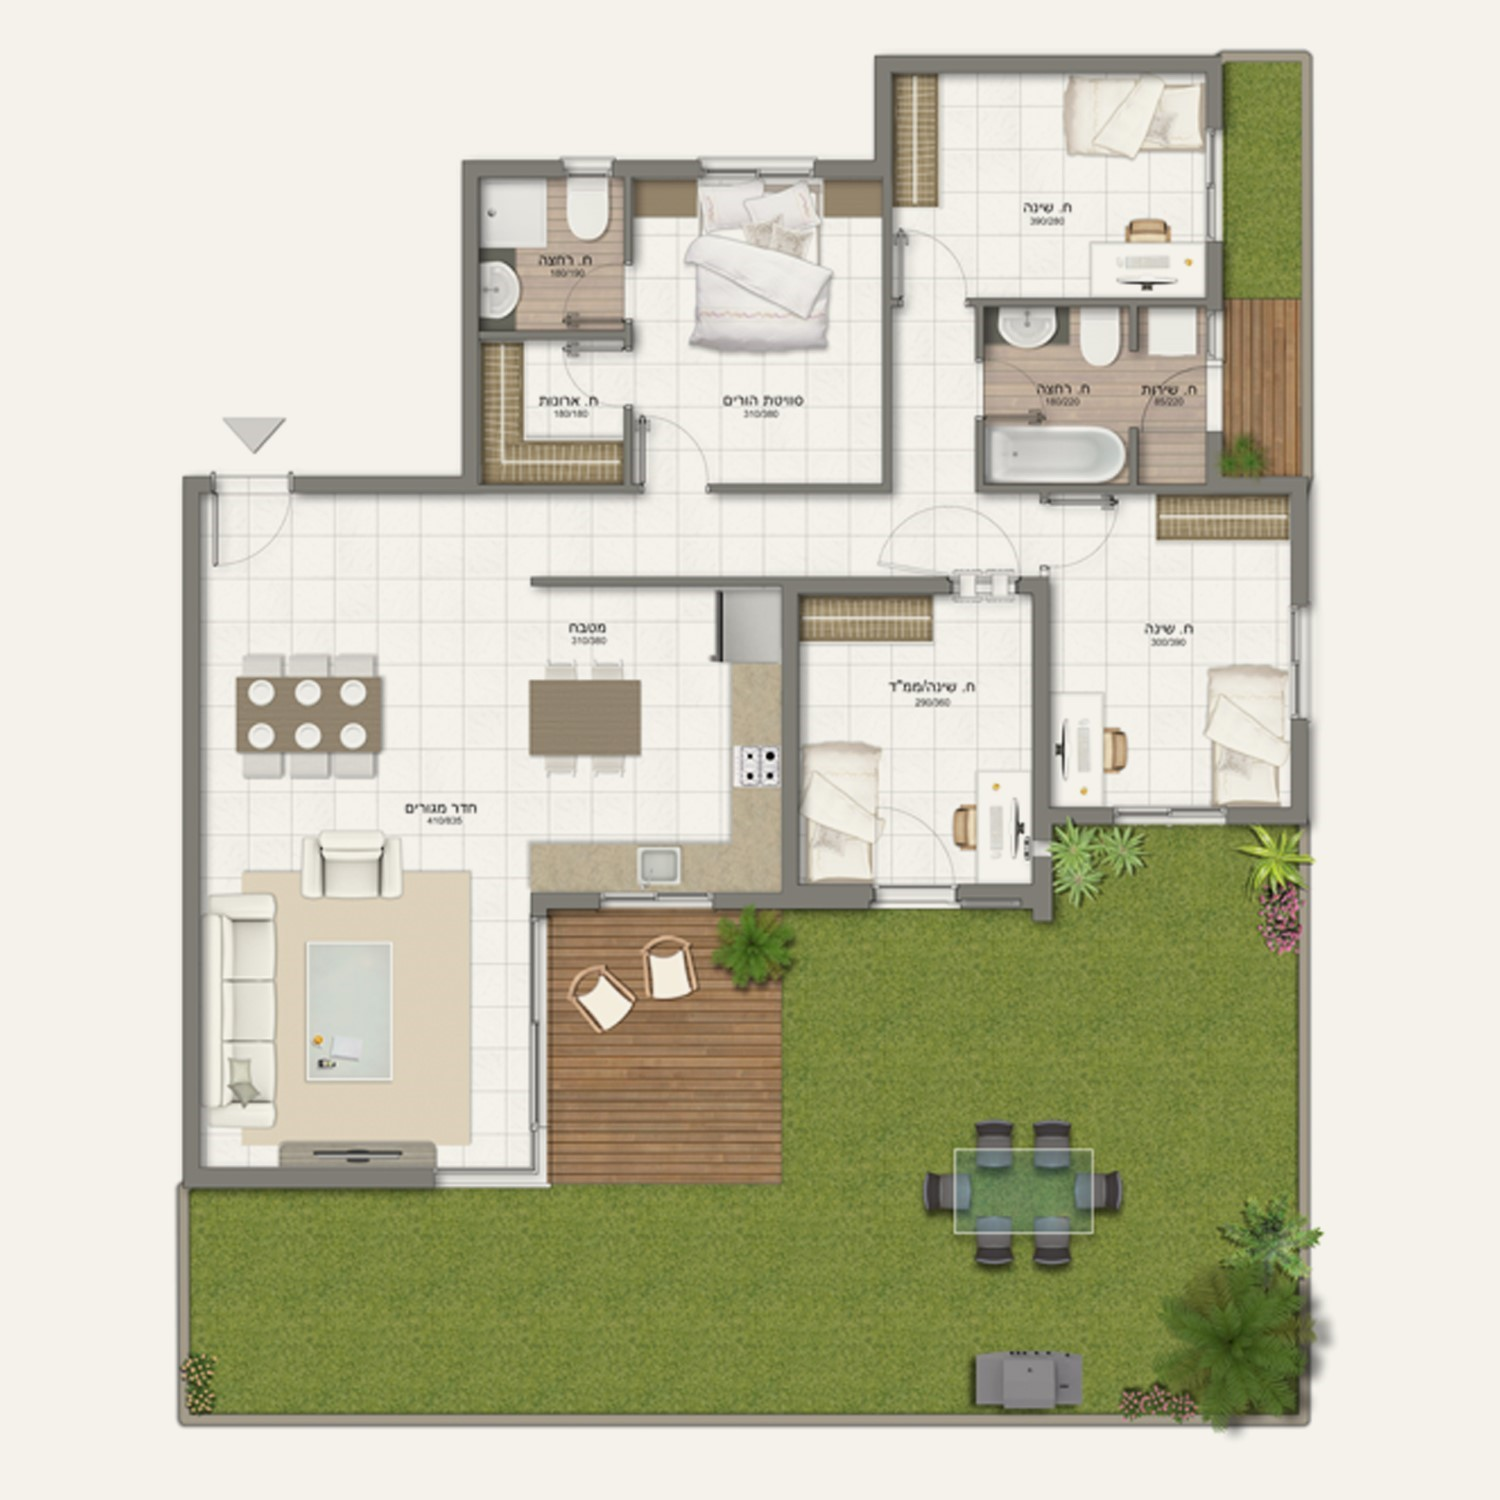door: (865, 499, 1038, 574), (207, 500, 304, 578), (640, 400, 710, 479), (896, 213, 973, 282), (1137, 364, 1201, 444), (999, 354, 1070, 423), (1073, 495, 1140, 566)
wall: (184, 475, 201, 918), (782, 577, 801, 908), (185, 1165, 435, 1188), (295, 477, 481, 495), (615, 159, 699, 179)
window: (533, 916, 545, 1176), (1207, 130, 1224, 242)
